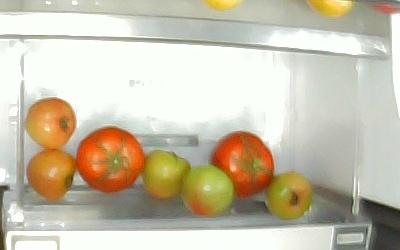tomato: (77, 127, 144, 194), (210, 131, 274, 199), (26, 97, 77, 149), (181, 166, 232, 217), (26, 150, 76, 201), (143, 149, 190, 199), (265, 171, 312, 220)
